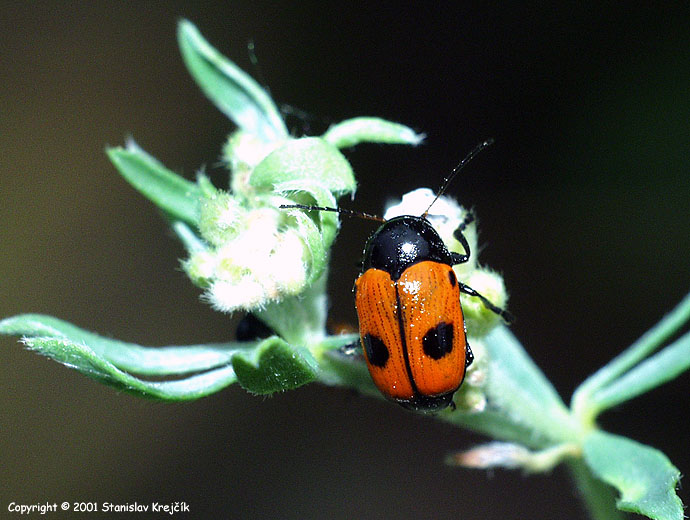Cryptocephalus_bipunctatus: (278, 126, 498, 416)
